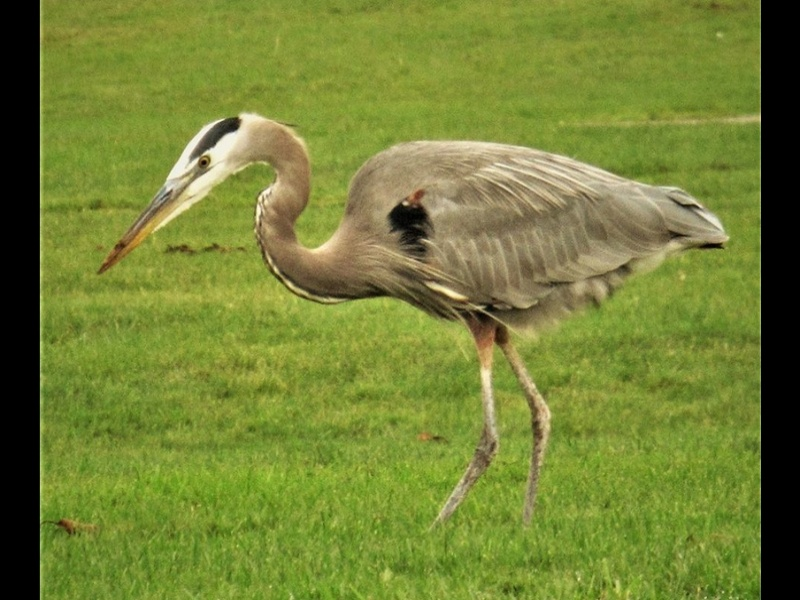heron: (95, 111, 728, 520)
